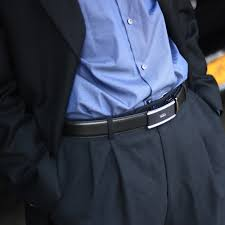F_belt: (47, 79, 211, 146)
